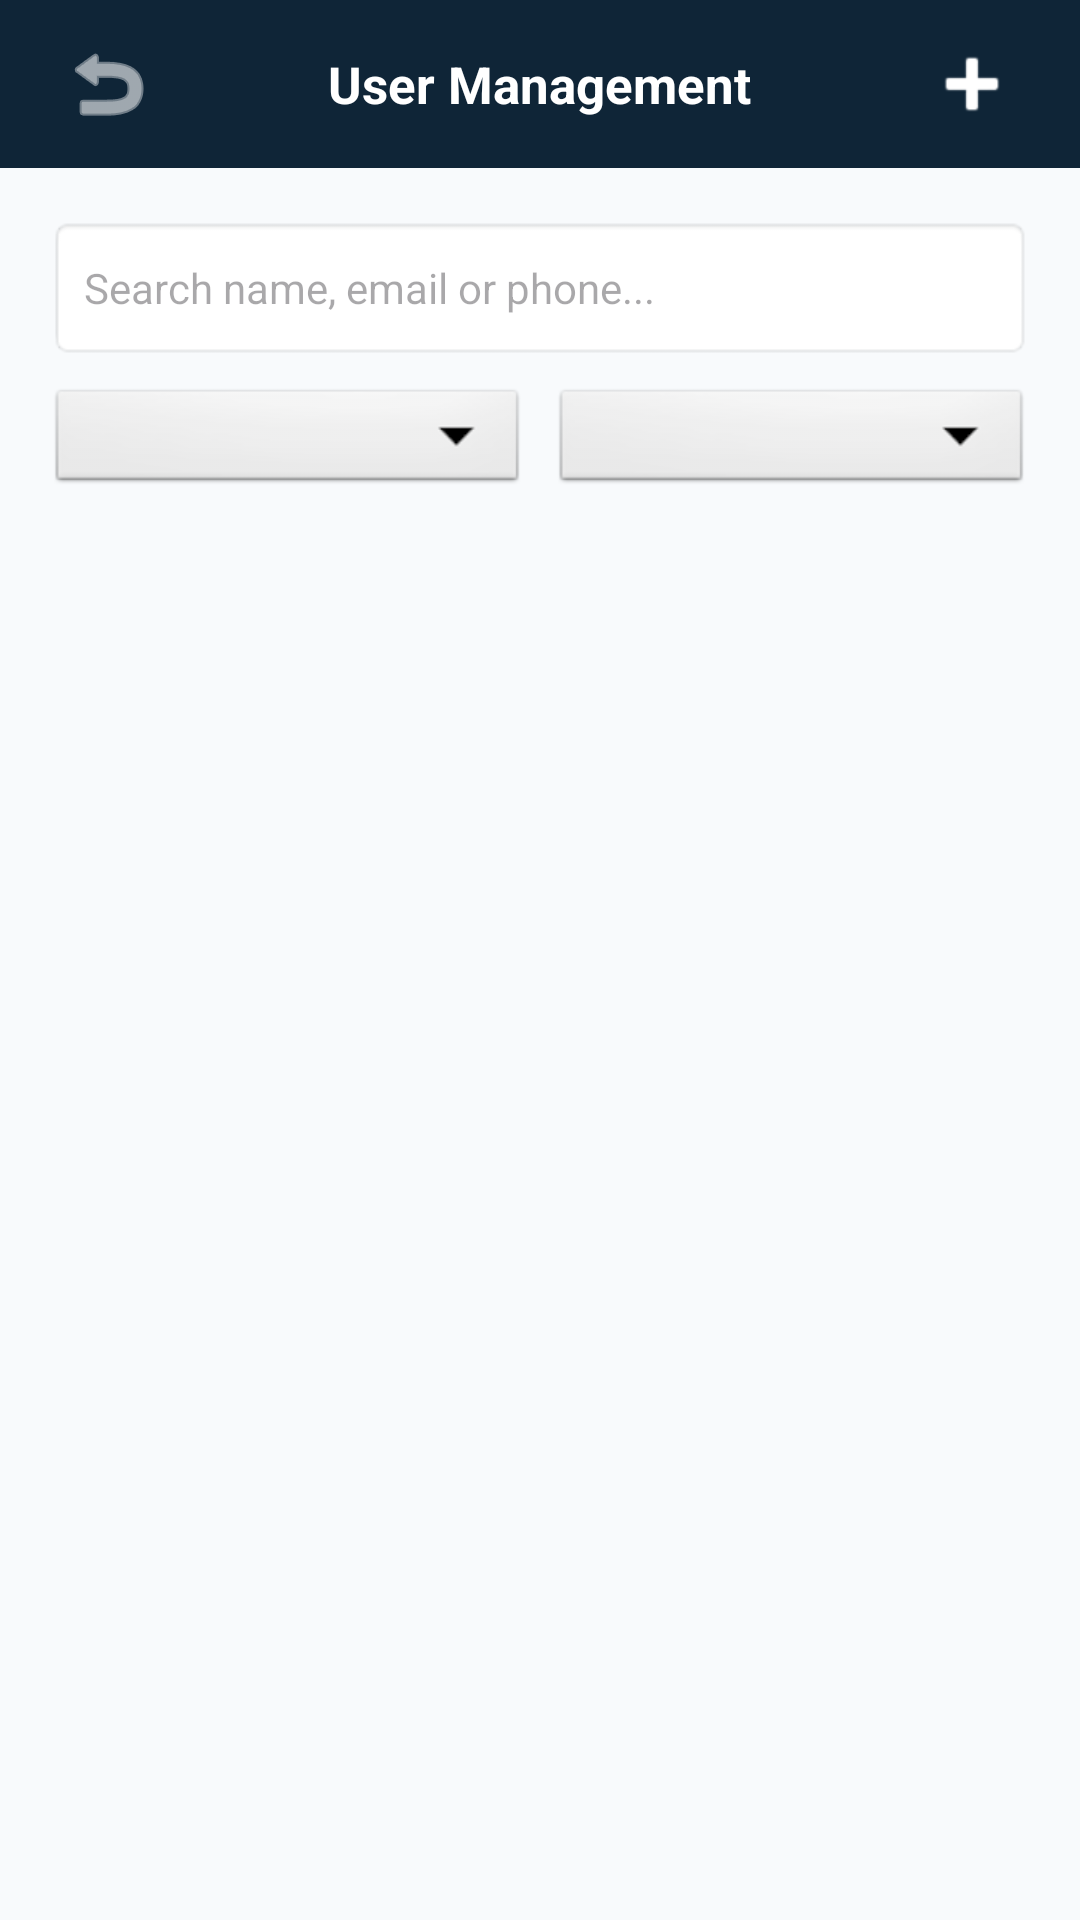

Icons on this 1080px×1920px Android screen, each with the point to tap as [x,y]:
Back: [109,84]
